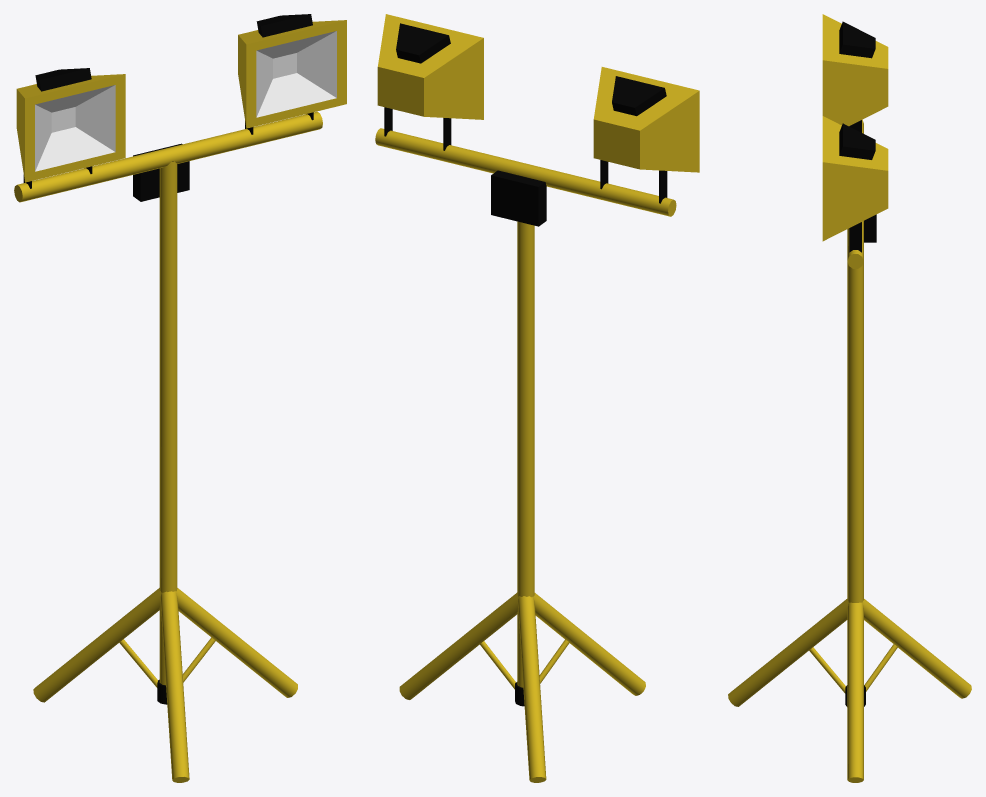
File: ConstructionLight.fbx
3 renders of one model, left to right at view 1: azimuth 30°, elevation 25°; view 2: azimuth 150°, elevation 25°; view 3: azimuth 270°, elevation 25°, orthographic. The views are drawn at different scales.
Parts seen in each view (by area): view 1: Cube; view 2: Cube; view 3: Cube.
Part boxes in pixels (bbox=[...]): Cube: bbox=[14, 14, 346, 782]; Cube: bbox=[375, 14, 699, 782]; Cube: bbox=[728, 14, 971, 782].
Size of the model in its own units: 63.98 by 130 by 44.49.
